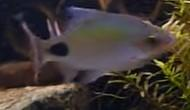Black Spotted Barb: (23, 5, 180, 86)
